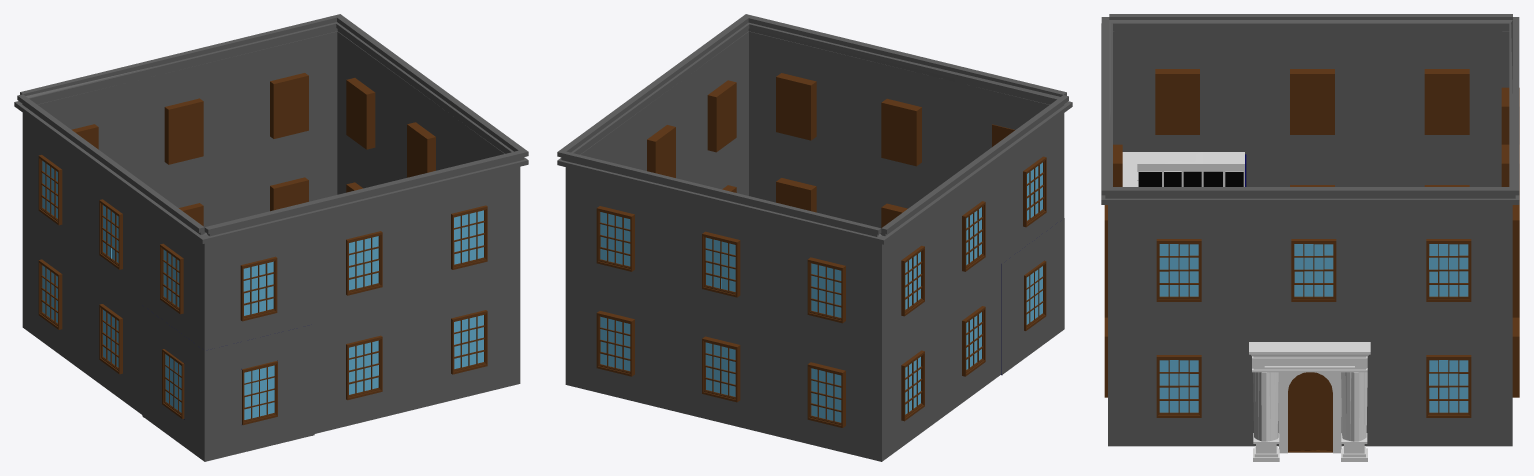
The model's file is Veilhuis.fbx.
The picture shows the model from 3 angles, left to right: view 1: azimuth 30°, elevation 25°; view 2: azimuth 150°, elevation 25°; view 3: azimuth 270°, elevation 25°; orthographic projection. The views are drawn at different scales.
Visible parts, largest first — view 1: Walls; view 2: Walls; view 3: Walls.
Part boxes in pixels (bbox=[...]): Walls: bbox=[14, 14, 528, 461]; Walls: bbox=[557, 14, 1072, 461]; Walls: bbox=[1101, 14, 1519, 461].
Size of the model in its own units: 1943 by 1298 by 1861.
